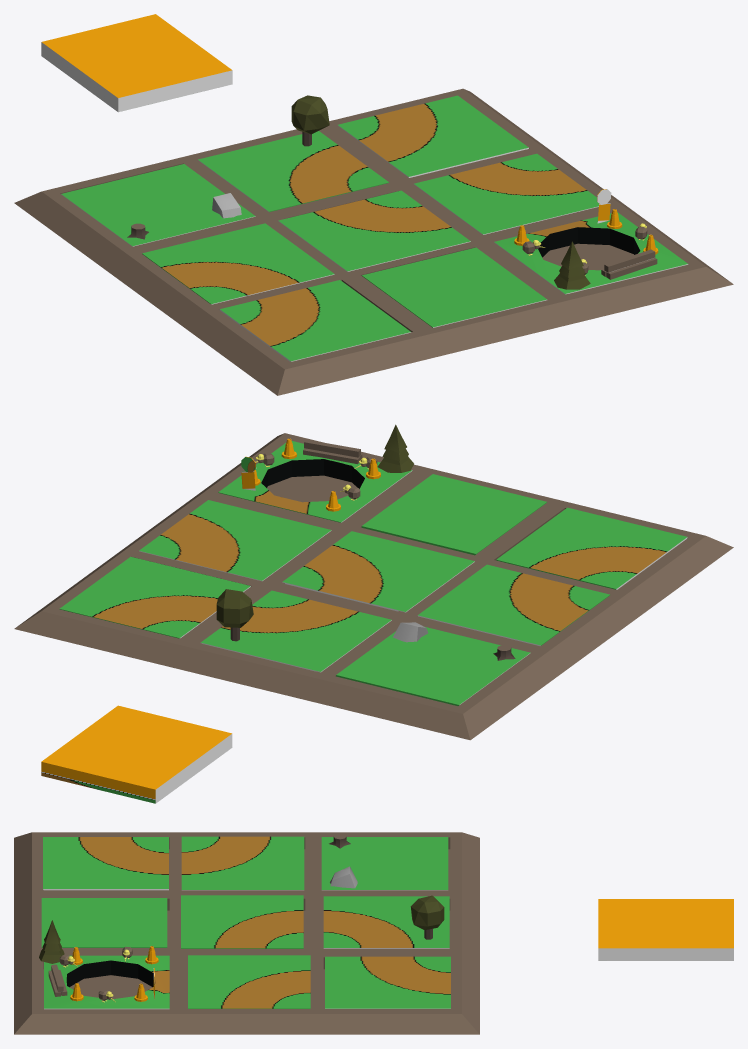
The model's file is Level 1.fbx.
3 views of the same model, one above another, from view 1: azimuth 30°, elevation 25°; view 2: azimuth 150°, elevation 25°; view 3: azimuth 270°, elevation 25° (orthographic). The views are drawn at different scales.
Visible parts, largest first — view 1: Main_Playing_field_3x3, Board_Piece_5, Turn_Piece, Turn_Piece5, Turn_Piece2, Turn_Piece4, Turn_Piece3, Turn_Piece1, Board_Piece_14, Board_Piece_17, Construction_piece, Tree (+1 smaller); view 2: Main_Playing_field_3x3, Board_Piece_5, Turn_Piece2, Turn_Piece5, Turn_Piece4, Turn_Piece3, Turn_Piece, Board_Piece_14, Board_Piece_17, Turn_Piece1, Construction_piece, Tree (+1 smaller); view 3: Main_Playing_field_3x3, Board_Piece_5, Turn_Piece4, Turn_Piece5, Turn_Piece, Turn_Piece2, Turn_Piece3, Board_Piece_17, Board_Piece_14, Turn_Piece1, Construction_piece, Tree (+2 smaller).
Boxes of the visible parts, <box> form: Main_Playing_field_3x3: <box>14,88,733,395</box>; Board_Piece_5: <box>41,14,232,112</box>; Turn_Piece: <box>337,95,528,177</box>; Turn_Piece5: <box>219,280,411,361</box>; Turn_Piece2: <box>278,190,470,271</box>; Turn_Piece4: <box>142,223,334,304</box>; Turn_Piece3: <box>414,153,598,234</box>; Turn_Piece1: <box>198,131,389,212</box>; Board_Piece_14: <box>361,247,547,327</box>; Board_Piece_17: <box>61,164,255,246</box>; Construction_piece: <box>494,212,688,294</box>; Tree: <box>291,95,329,134</box>; Main_Playing_field_3x3: <box>14,433,733,740</box>; Board_Piece_5: <box>41,705,232,803</box>; Turn_Piece2: <box>282,531,474,612</box>; Turn_Piece5: <box>496,507,687,589</box>; Turn_Piece4: <box>417,564,609,645</box>; Turn_Piece3: <box>139,500,331,581</box>; Turn_Piece: <box>59,556,250,638</box>; Board_Piece_14: <box>361,474,547,555</box>; Board_Piece_17: <box>336,626,530,705</box>; Turn_Piece1: <box>200,590,391,672</box>; Construction_piece: <box>218,441,412,522</box>; Tree: <box>216,589,253,627</box>; Main_Playing_field_3x3: <box>14,832,479,1034</box>; Board_Piece_5: <box>598,899,733,960</box>; Turn_Piece4: <box>181,836,304,890</box>; Turn_Piece5: <box>43,837,168,890</box>; Turn_Piece: <box>325,956,450,1008</box>; Turn_Piece2: <box>181,895,303,948</box>; Turn_Piece3: <box>188,955,310,1008</box>; Board_Piece_17: <box>321,837,448,890</box>; Board_Piece_14: <box>41,898,167,947</box>; Turn_Piece1: <box>323,896,449,948</box>; Construction_piece: <box>44,955,169,1009</box>; Tree: <box>410,895,444,930</box>.
Size of the model in its own units: 39.43 by 5.22 by 60.92.
